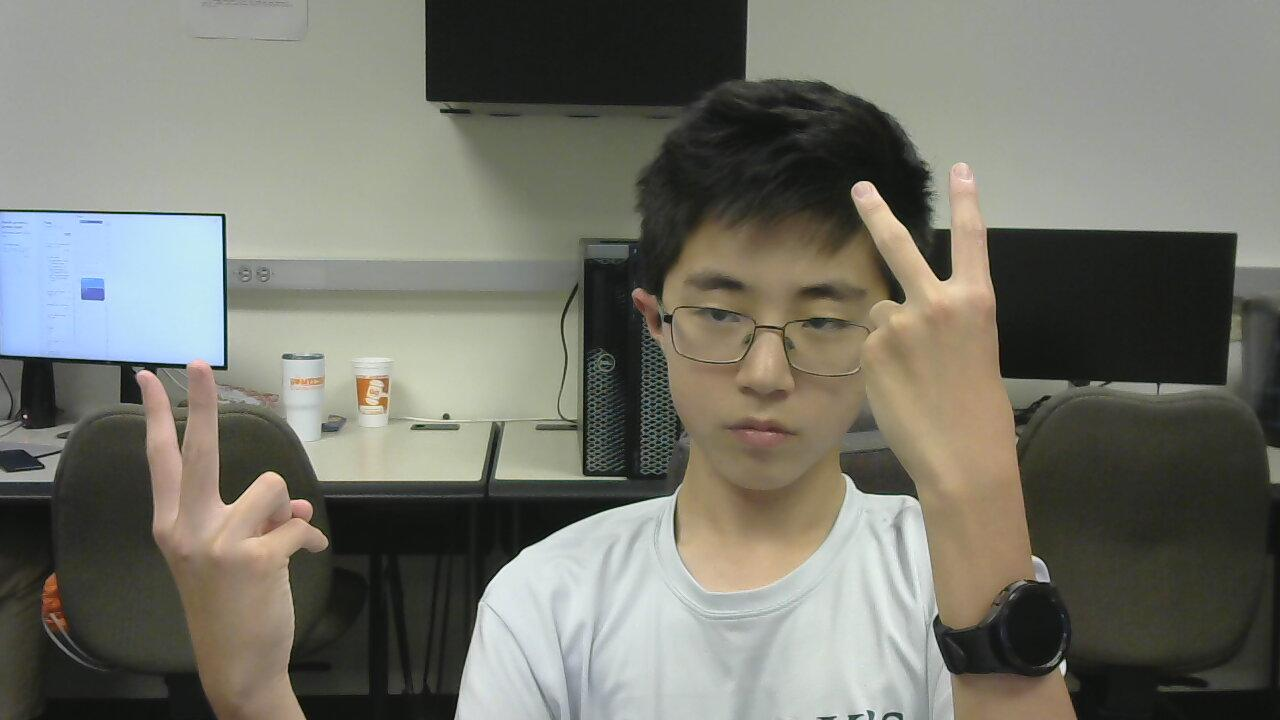peace: (111, 349, 324, 698), (838, 164, 1032, 508)
